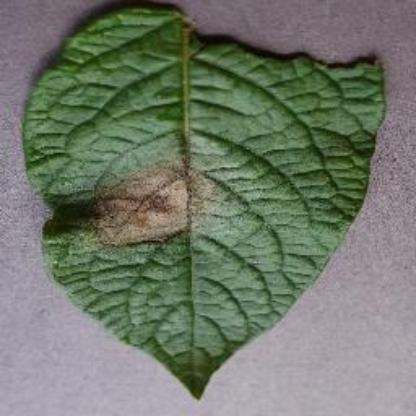Late-Blight: (21, 1, 390, 400)
